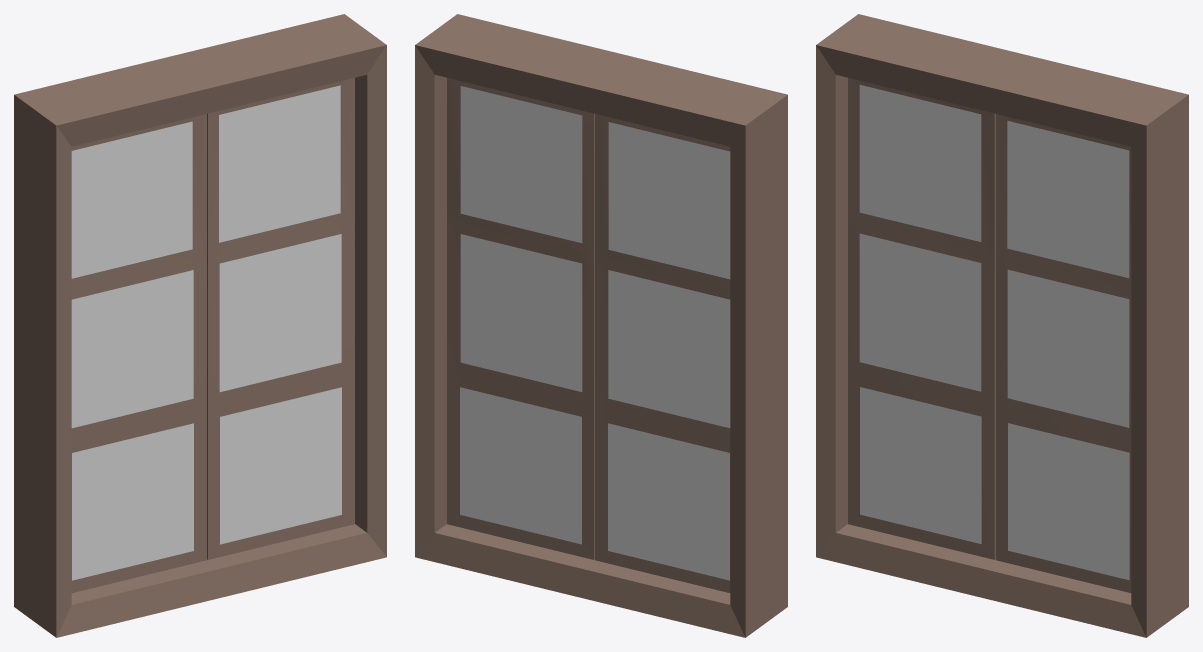
The model's file is window1.fbx.
3 renders of one model, left to right at view 1: azimuth 30°, elevation 25°; view 2: azimuth 150°, elevation 25°; view 3: azimuth 330°, elevation 25°, orthographic.
Visible parts, largest first — view 1: window, right_window, lefi_window; view 2: window, right_window, lefi_window; view 3: window, lefi_window, right_window.
Boxes of the visible parts, x1,y1,x2,y2 form: window: [14, 14, 386, 637]; right_window: [207, 78, 354, 559]; lefi_window: [71, 114, 206, 592]; window: [415, 14, 787, 637]; right_window: [447, 78, 594, 559]; lefi_window: [595, 114, 730, 592]; window: [816, 14, 1188, 637]; lefi_window: [848, 78, 995, 559]; right_window: [996, 114, 1131, 592].
Bounding box in the file's own units: 2.7 × 4 × 0.6.
